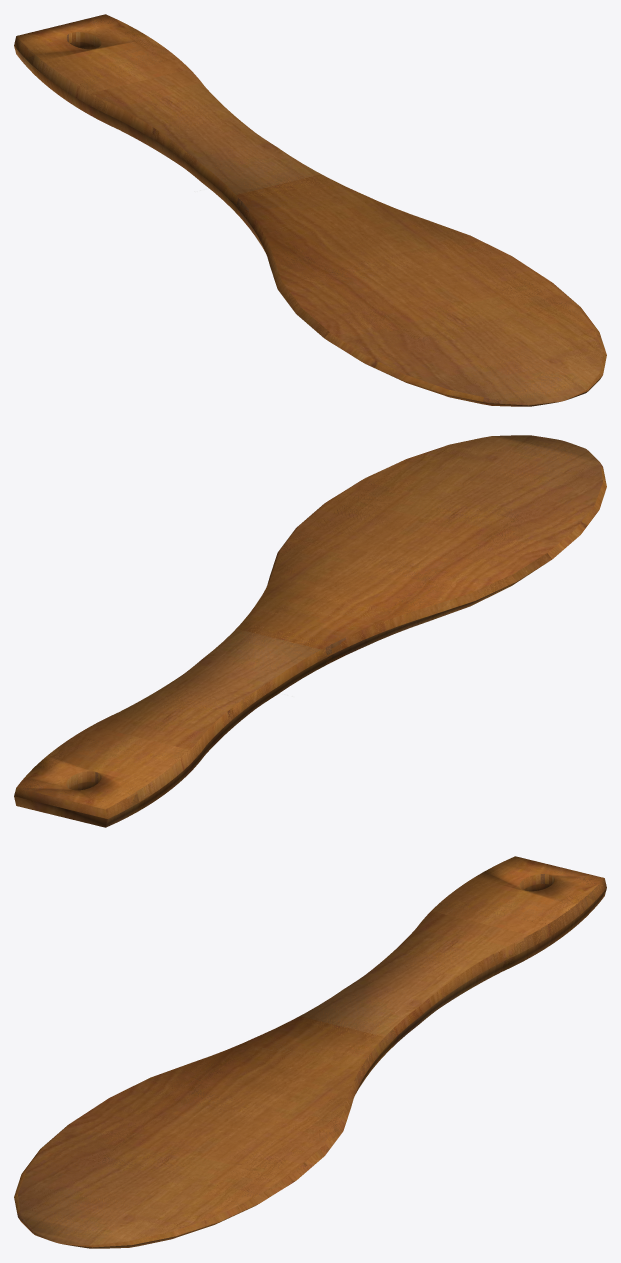
The model's file is spoon_01_origin.dae.
The picture shows the model from 3 angles, top to bottom: view 1: azimuth 30°, elevation 25°; view 2: azimuth 150°, elevation 25°; view 3: azimuth 330°, elevation 25°; orthographic projection.
Parts seen in each view (by area): view 1: Wooden_Rice_Spoon; view 2: Wooden_Rice_Spoon; view 3: Wooden_Rice_Spoon.
Boxes of the visible parts, x1=… form: Wooden_Rice_Spoon: x1=14, y1=14, x2=606, y2=406; Wooden_Rice_Spoon: x1=14, y1=435, x2=606, y2=827; Wooden_Rice_Spoon: x1=14, y1=856, x2=606, y2=1248.
Size of the model in its own units: 2.36 by 8.97 by 0.2267.
Materials: 2 (1 with a texture image).
